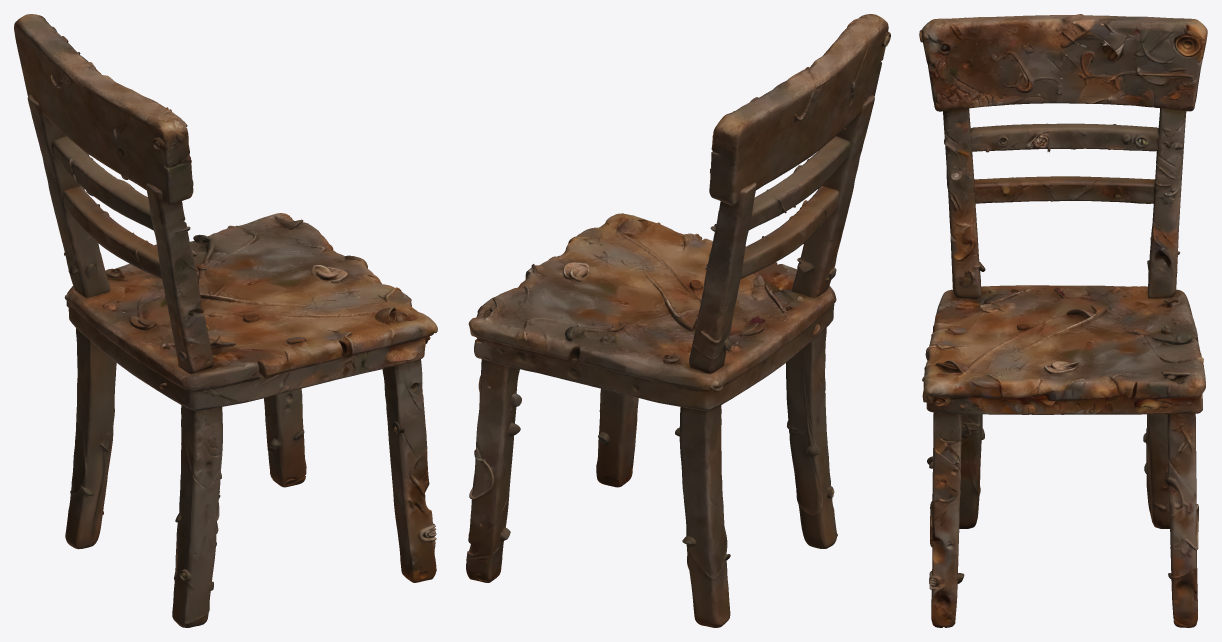
Rendered from chair.glb.
3 views of the same model, side by side, from view 1: azimuth 30°, elevation 25°; view 2: azimuth 150°, elevation 25°; view 3: azimuth 270°, elevation 25° (orthographic). The views are drawn at different scales.
Parts seen in each view (by area): view 1: tripo_node_5e5b822f-6ecd-4321-a2b0-2c8a6c607649; view 2: tripo_node_5e5b822f-6ecd-4321-a2b0-2c8a6c607649; view 3: tripo_node_5e5b822f-6ecd-4321-a2b0-2c8a6c607649.
Boxes of the visible parts, <box> form: tripo_node_5e5b822f-6ecd-4321-a2b0-2c8a6c607649: <box>14,14,437,627</box>; tripo_node_5e5b822f-6ecd-4321-a2b0-2c8a6c607649: <box>466,14,890,627</box>; tripo_node_5e5b822f-6ecd-4321-a2b0-2c8a6c607649: <box>919,14,1207,627</box>.
Bounding box in the file's own units: 0.5714 × 0.9783 × 0.5234.
Materials: 1 (1 with a texture image).
